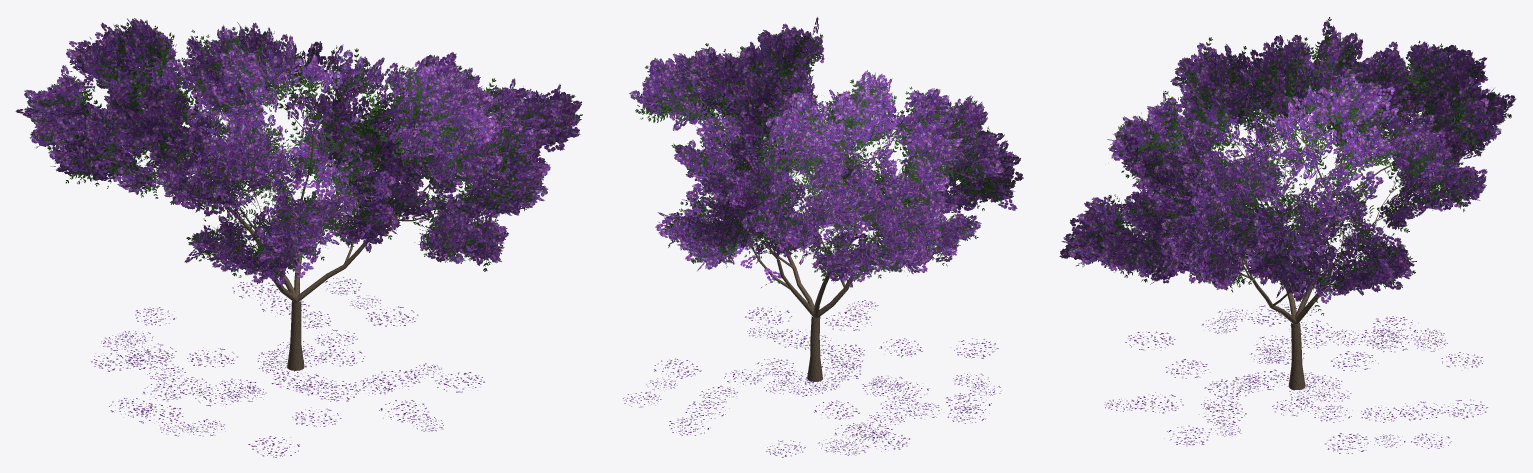
The model's file is quaresmeira_10anos.glb.
3 renders of one model, left to right at view 1: azimuth 30°, elevation 25°; view 2: azimuth 150°, elevation 25°; view 3: azimuth 270°, elevation 25°, orthographic. The views are drawn at different scales.
Parts seen in each view (by area): view 1: Quaresmeira; view 2: Quaresmeira; view 3: Quaresmeira.
Boxes of the visible parts, bbox=[...] form: Quaresmeira: bbox=[15, 18, 582, 457]; Quaresmeira: bbox=[623, 17, 1023, 457]; Quaresmeira: bbox=[1059, 17, 1515, 453].
Bounding box in the file's own units: 10.77 × 8 × 10.07.
Materials: 3 (3 with a texture image).
